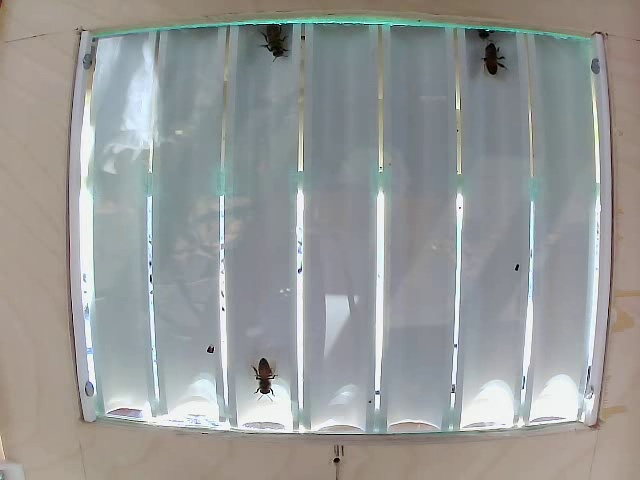bee: (251, 353, 297, 397), (268, 26, 300, 72), (486, 42, 509, 75)
